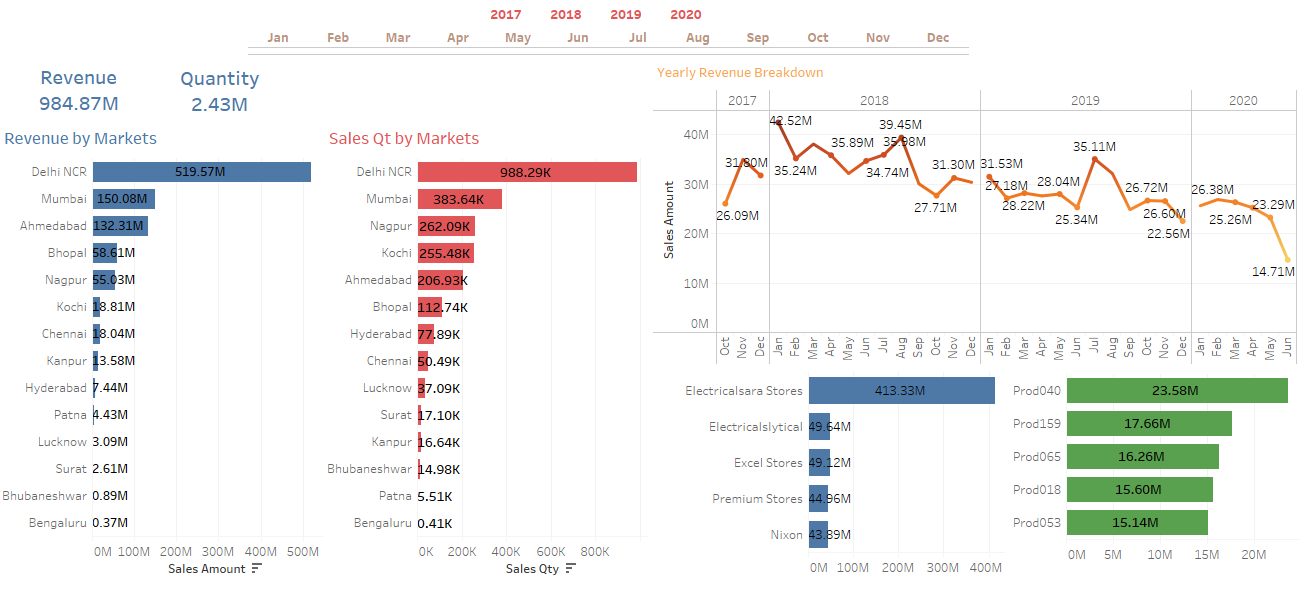

This screenshot's page, from the dashboard's own definition file:
{"tool":"tableau","page":{"name":"Sales Insights","canvas":[1300,600],"ordinal":1},"visuals":[{"type":"worksheet","title":"Year Tab","mark":"Automatic","cols":["cy_date"],"box":[475.8,3.8,314.6,20.2]},{"type":"worksheet","title":"Month Tab","mark":"Automatic","cols":["cy_date"],"box":[248,27,725,31]},{"type":"worksheet","title":"Yearly Revenue Breakdown","mark":"Automatic","rows":["sales_amount"],"cols":["cy_date","cy_date"],"box":[653,57,644,308]},{"type":"worksheet","title":"Revenue","mark":"Automatic","box":[29,64,104,58]},{"type":"worksheet","title":"Sales Quantity","mark":"Automatic","box":[170,65,116,62]},{"type":"worksheet","title":"Revenue by Markets","mark":"Automatic","rows":["markets_name"],"cols":["sales_amount"],"box":[0,121,322,466]},{"type":"worksheet","title":"Sales Qt by Markets","mark":"Automatic","rows":["markets_name"],"cols":["sales_qty"],"box":[325,121,323,468]},{"type":"worksheet","title":"Top Customers","mark":"Automatic","rows":["custmer_name"],"cols":["sales_amount"],"box":[684,372,320,216]},{"type":"worksheet","title":"Top Products","mark":"Automatic","rows":["product_code (products)"],"cols":["sales_amount"],"box":[1010,374,289,214]}]}

Visuals, with their boxes in screenshot pixels (x1, y1, x2, y2), scaled from the page's 1300x600 canvas onto the 1300x600 screenshot:
"Year Tab" worksheet: 476,4,790,24
"Month Tab" worksheet: 248,27,973,58
"Yearly Revenue Breakdown" worksheet: 653,57,1297,365
"Revenue" worksheet: 29,64,133,122
"Sales Quantity" worksheet: 170,65,286,127
"Revenue by Markets" worksheet: 0,121,322,587
"Sales Qt by Markets" worksheet: 325,121,648,589
"Top Customers" worksheet: 684,372,1004,588
"Top Products" worksheet: 1010,374,1299,588
